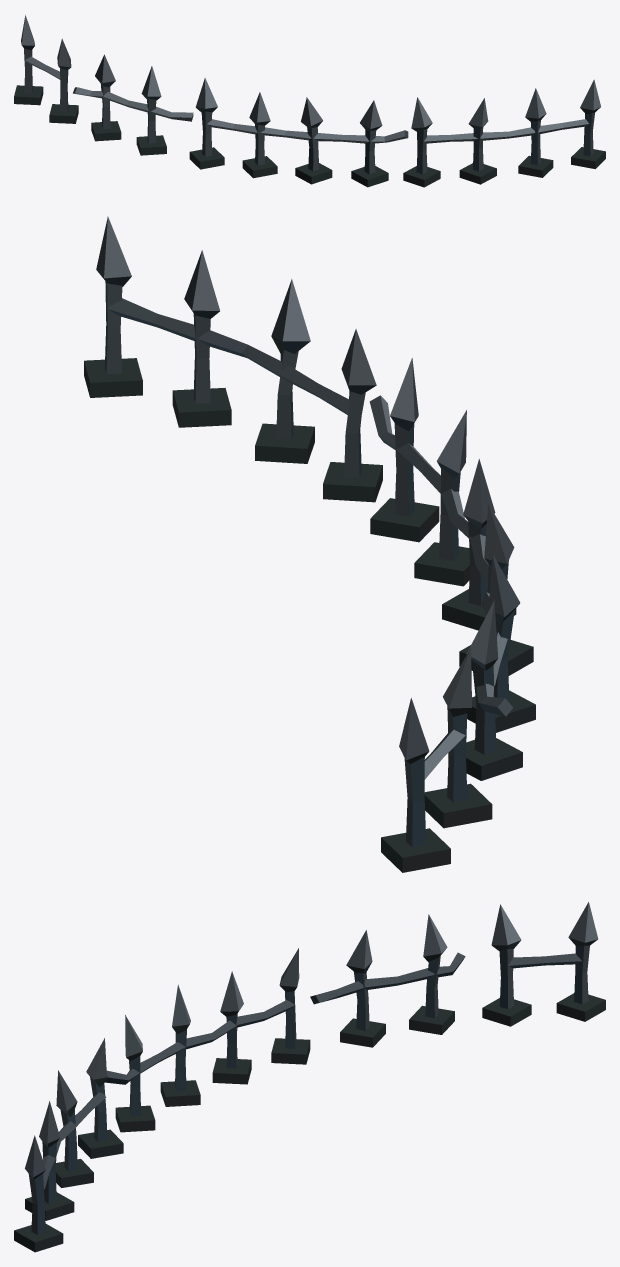
Rendered from metal_spike_curve_large.fbx.
3 views of the same model, one above another, from view 1: azimuth 30°, elevation 25°; view 2: azimuth 150°, elevation 25°; view 3: azimuth 270°, elevation 25° (orthographic). The views are drawn at different scales.
Visible parts, largest first — view 1: metal_spike_curve_large; view 2: metal_spike_curve_large; view 3: metal_spike_curve_large.
Part boxes in pixels (box(x1,y1,x2,y2)): metal_spike_curve_large: box(14, 15, 605, 187); metal_spike_curve_large: box(84, 216, 535, 872); metal_spike_curve_large: box(14, 902, 605, 1252).
Size of the model in its own units: 395 by 80.68 by 393.
